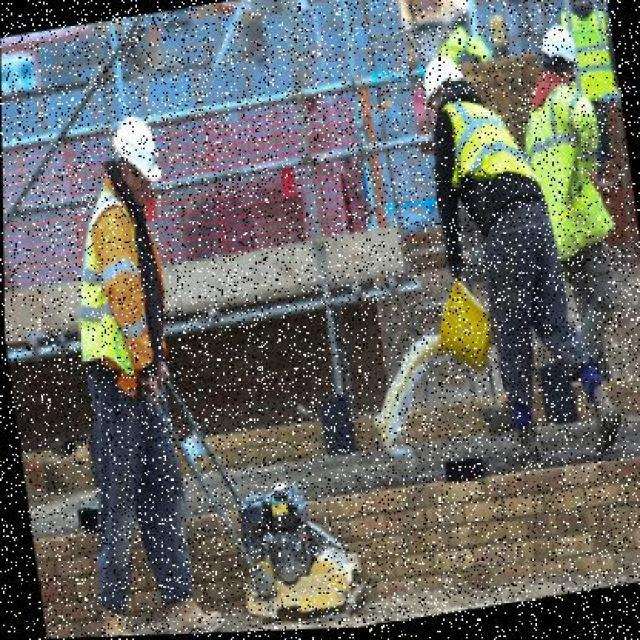helmet: (105, 106, 165, 196), (416, 53, 472, 116), (536, 21, 583, 79)
vest: (55, 178, 163, 390), (530, 82, 612, 274), (437, 99, 538, 202)
